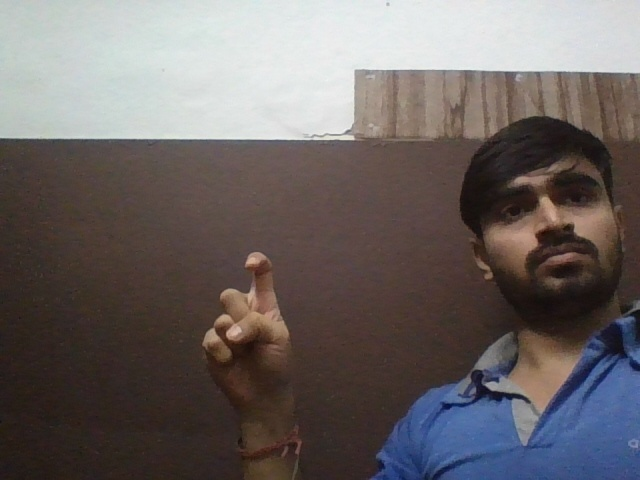X: (190, 247, 306, 408)
